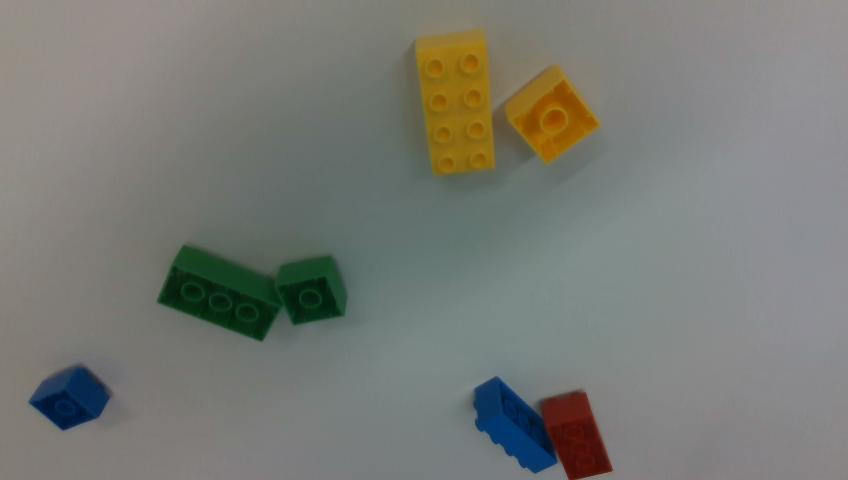2x2_blue: (29, 365, 110, 430)
2x2_green: (275, 255, 346, 324)
2x2_yellow: (503, 65, 600, 163)
4x2_blue: (473, 377, 557, 472)
4x2_green: (159, 245, 283, 340)
4x2_red: (540, 390, 612, 479)
4x2_yellow: (415, 32, 493, 174)
